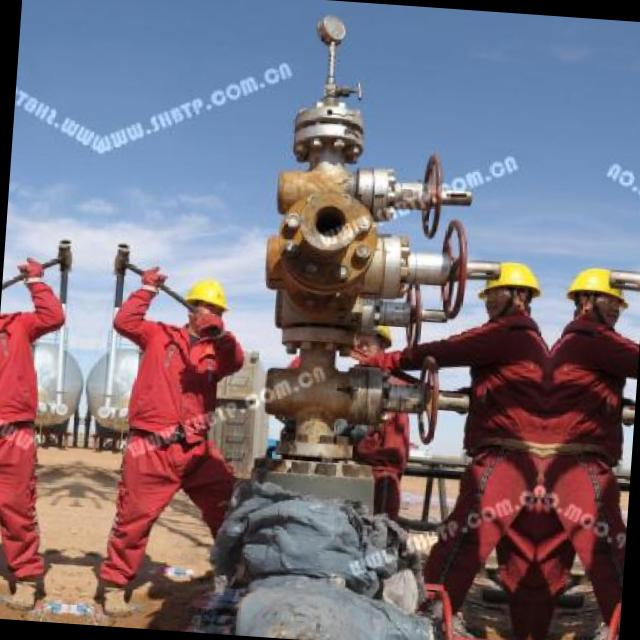helmet: (477, 254, 546, 324), (559, 260, 628, 329), (178, 273, 230, 336), (348, 314, 392, 364)
